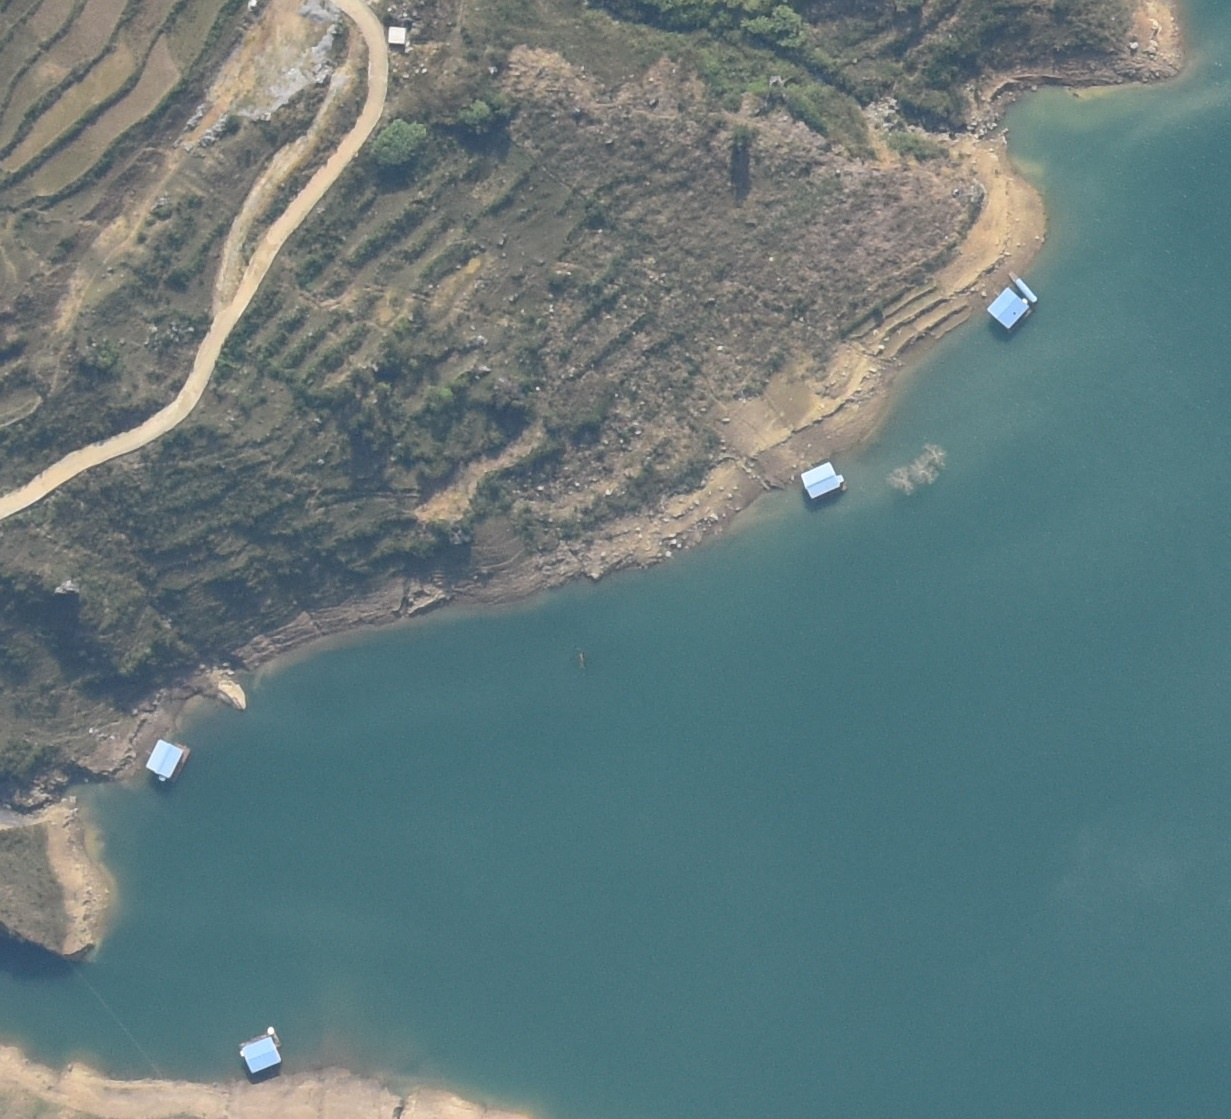building: (387, 25, 407, 44)
prefabricated-house: (146, 738, 189, 784), (239, 1033, 285, 1075), (990, 287, 1029, 333), (801, 461, 849, 498)
ship: (1009, 268, 1040, 305)
